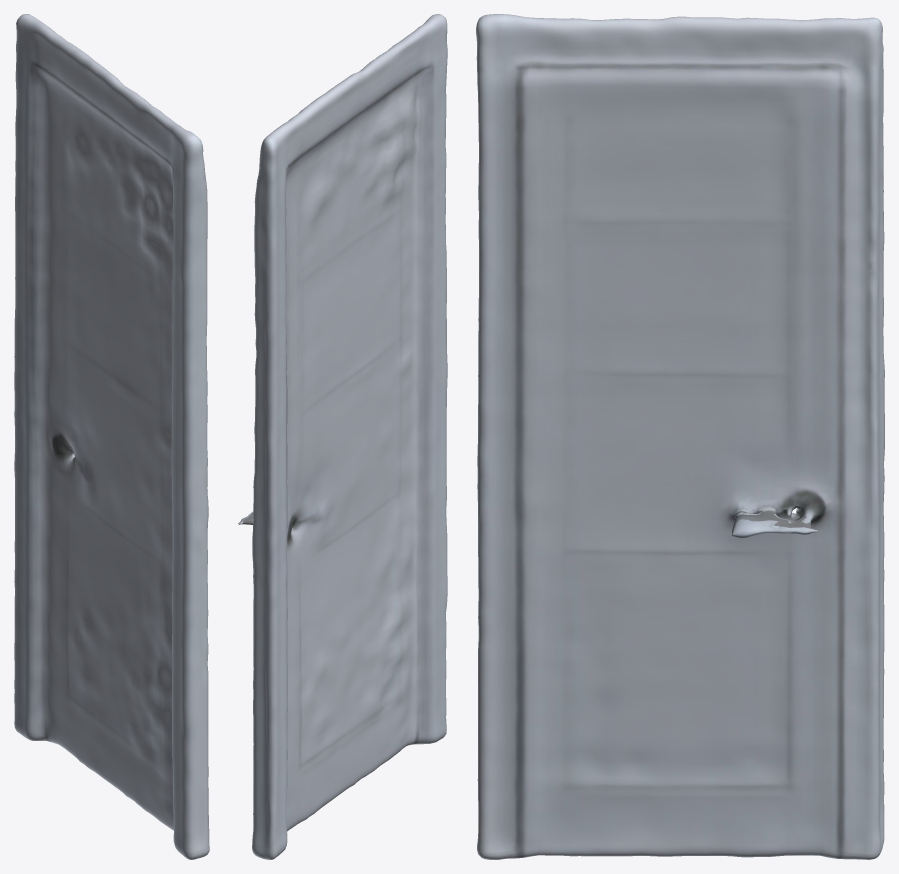
Rendered from whiteDoor.glb.
The picture shows the model from 3 angles, left to right: view 1: azimuth 30°, elevation 25°; view 2: azimuth 150°, elevation 25°; view 3: azimuth 270°, elevation 25°; orthographic projection. The views are drawn at different scales.
Parts seen in each view (by area): view 1: mesh; view 2: mesh; view 3: mesh.
Boxes of the visible parts, <box> form: mesh: <box>14,14,209,859</box>; mesh: <box>238,14,447,859</box>; mesh: <box>476,14,884,859</box>.
Bounding box in the file's own units: 0.0975 × 0.9993 × 0.4421.
1 material, 1 textured.
